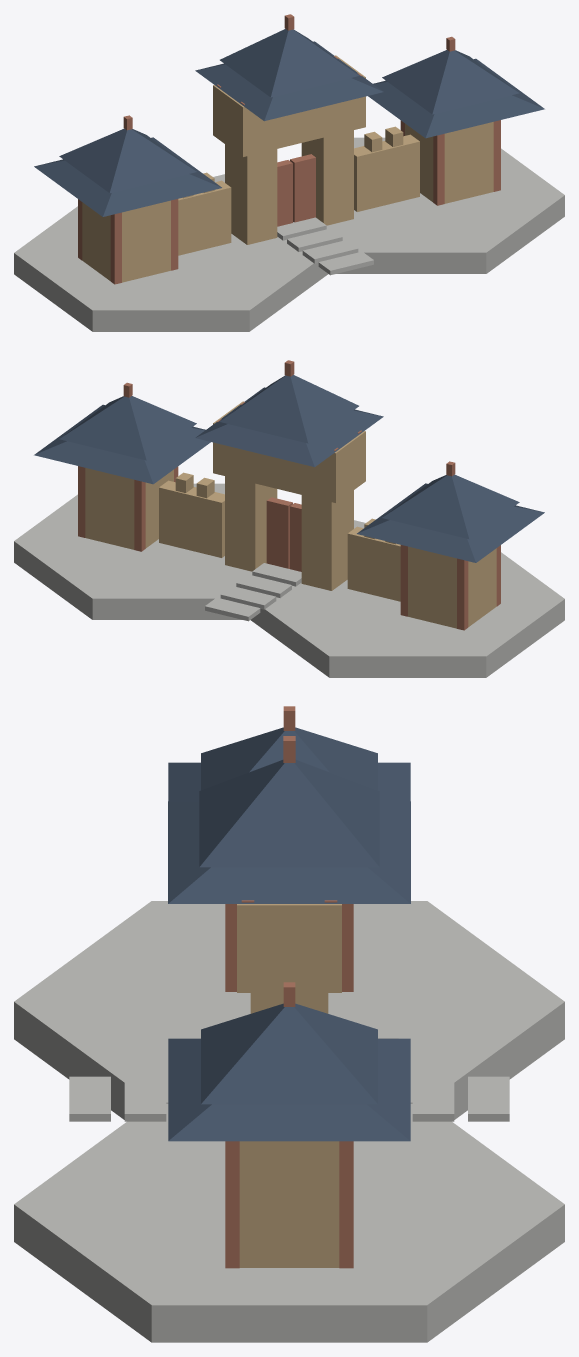
The model's file is gate-2tile.glb.
3 renders of one model, top to bottom at view 1: azimuth 30°, elevation 25°; view 2: azimuth 150°, elevation 25°; view 3: azimuth 270°, elevation 25°, orthographic. The views are drawn at different scales.
Visible parts, largest first — view 1: platform_left, platform_right, gate_upper, gate_roof, tower_left_body, tower_left_roof, tower_right_roof, tower_right_body, gate_pillar_-1, tower_left_eave, gate_eave, tower_right_eave (+13 smaller); view 2: platform_left, platform_right, gate_upper, gate_roof, tower_left_body, tower_left_roof, tower_right_roof, tower_right_body, gate_pillar_-1, tower_left_eave, gate_eave, tower_right_eave (+13 smaller); view 3: platform_right, platform_left, gate_roof, tower_right_roof, tower_right_eave, gate_eave, tower_right_body, gate_upper, tower_left_roof, tower_left_eave, road_1, road_6 (+7 smaller).
Part boxes in pixels (x1,y1,x2,y2): platform_left: (14, 206, 327, 331); platform_right: (326, 137, 564, 273); gate_upper: (213, 55, 365, 156); gate_roof: (220, 29, 359, 97); tower_left_body: (82, 200, 170, 282); tower_left_roof: (59, 128, 196, 193); tower_right_roof: (382, 50, 519, 114); tower_right_body: (405, 122, 493, 203); gate_pillar_-1: (225, 144, 277, 244); tower_left_eave: (34, 137, 221, 216); gate_eave: (195, 41, 383, 121); tower_right_eave: (368, 58, 544, 138); platform_left: (251, 552, 564, 677); platform_right: (14, 483, 252, 619); gate_upper: (213, 401, 365, 502); gate_roof: (219, 375, 358, 443); tower_left_body: (408, 546, 496, 628); tower_left_roof: (382, 474, 519, 539); tower_right_roof: (59, 396, 196, 460); tower_right_body: (85, 468, 173, 549); gate_pillar_-1: (301, 490, 353, 590); tower_left_eave: (357, 483, 544, 562); gate_eave: (195, 387, 383, 467); tower_right_eave: (34, 404, 210, 484); platform_right: (14, 1103, 564, 1342); platform_left: (14, 901, 564, 1119); gate_roof: (199, 760, 379, 867); tower_right_roof: (201, 1003, 377, 1104); tower_right_eave: (168, 1038, 410, 1141); gate_eave: (168, 801, 410, 903); tower_right_body: (239, 1141, 339, 1267); gate_upper: (237, 904, 341, 992); tower_left_roof: (201, 727, 377, 790); tower_left_eave: (168, 762, 410, 801); road_1: (124, 1076, 166, 1121); road_6: (412, 1076, 454, 1121).
Size of the model in its own units: 2 by 0.9252 by 1.15.
